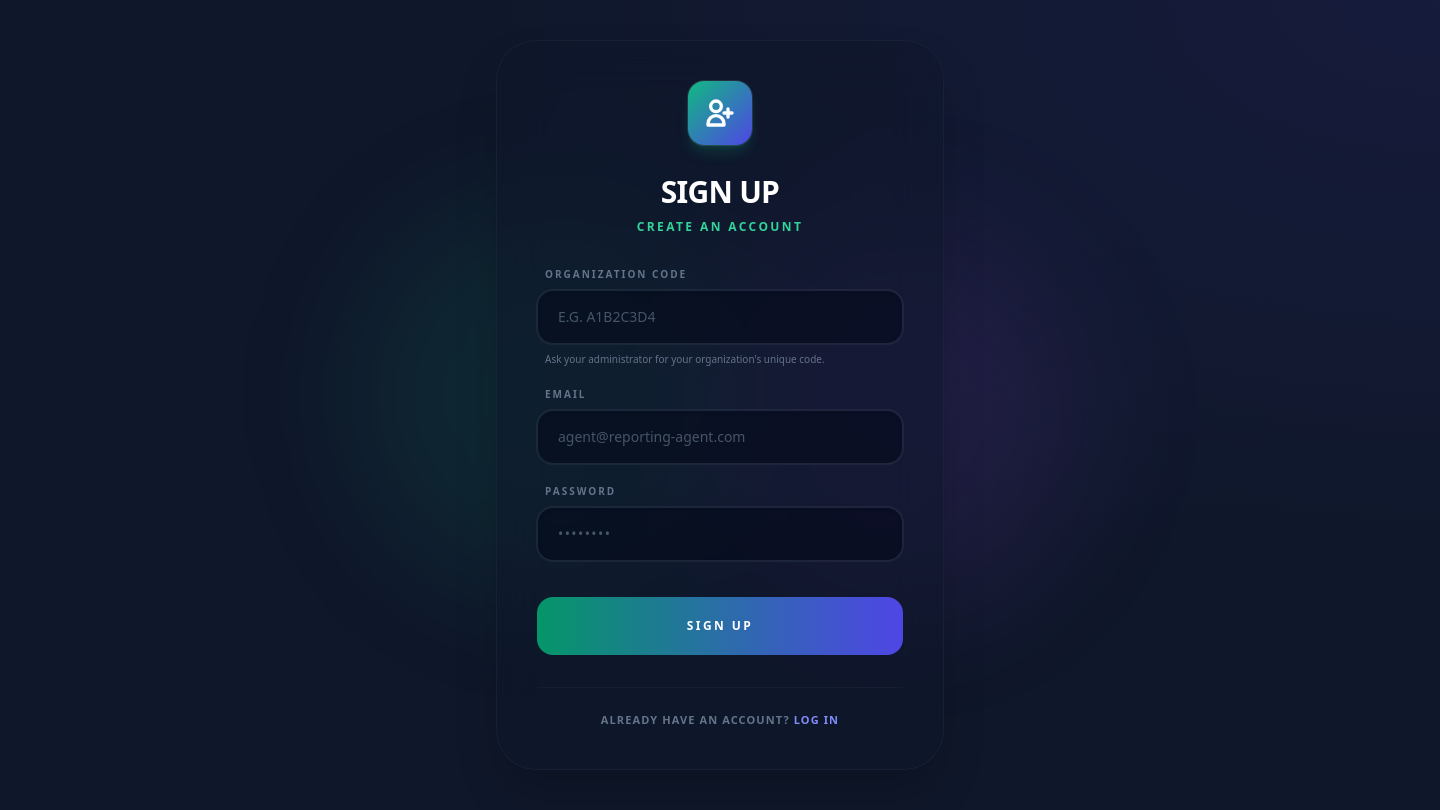
Auth view unit tests › submits signup and renders success for valid org code
In the field with placeholder "e.g. A1B2C3D4": (720, 317) [537, 290, 903, 344], type "ABC12345"
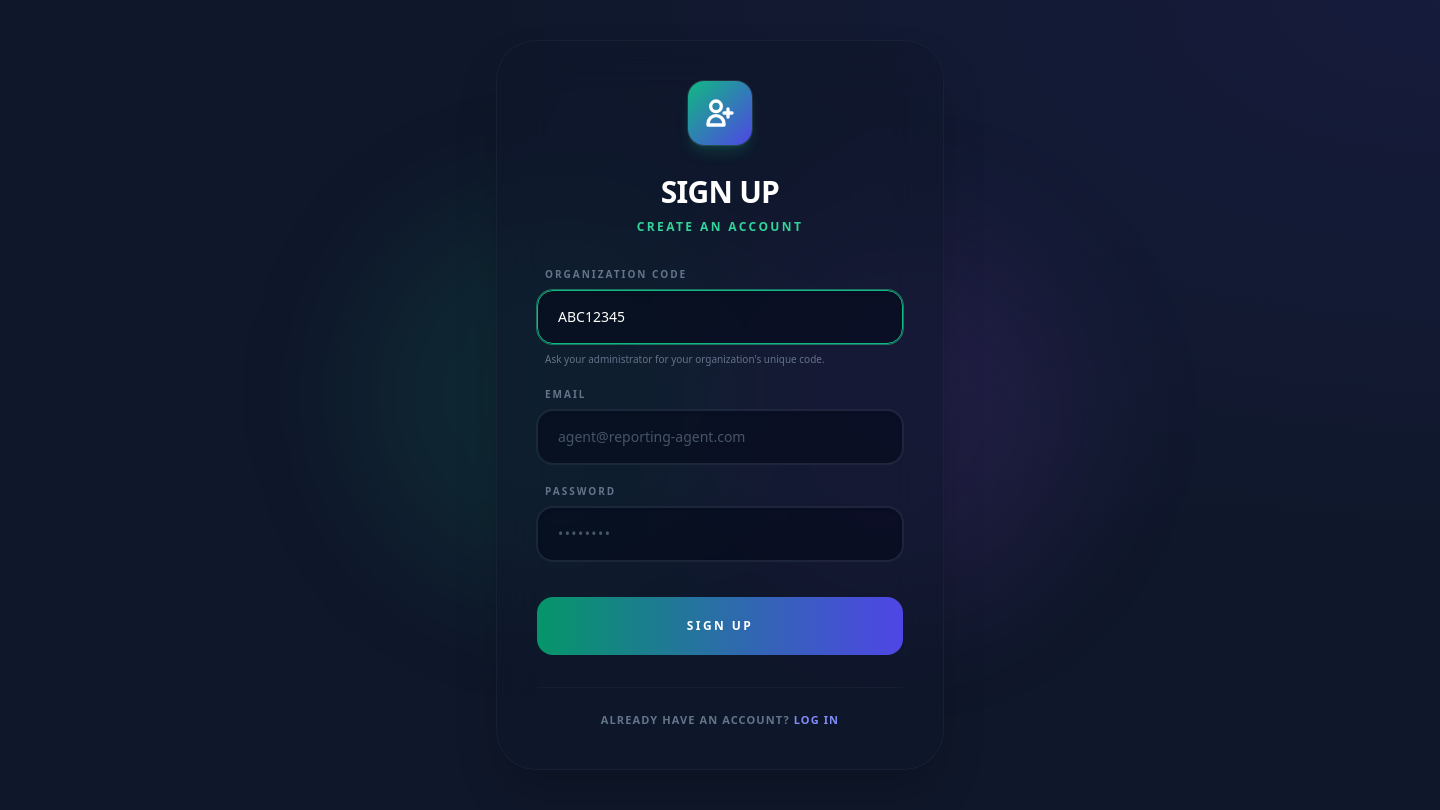
In the field with placeholder "agent@reporting-agent.com": (720, 437) [537, 410, 903, 464], type "member@test.com"
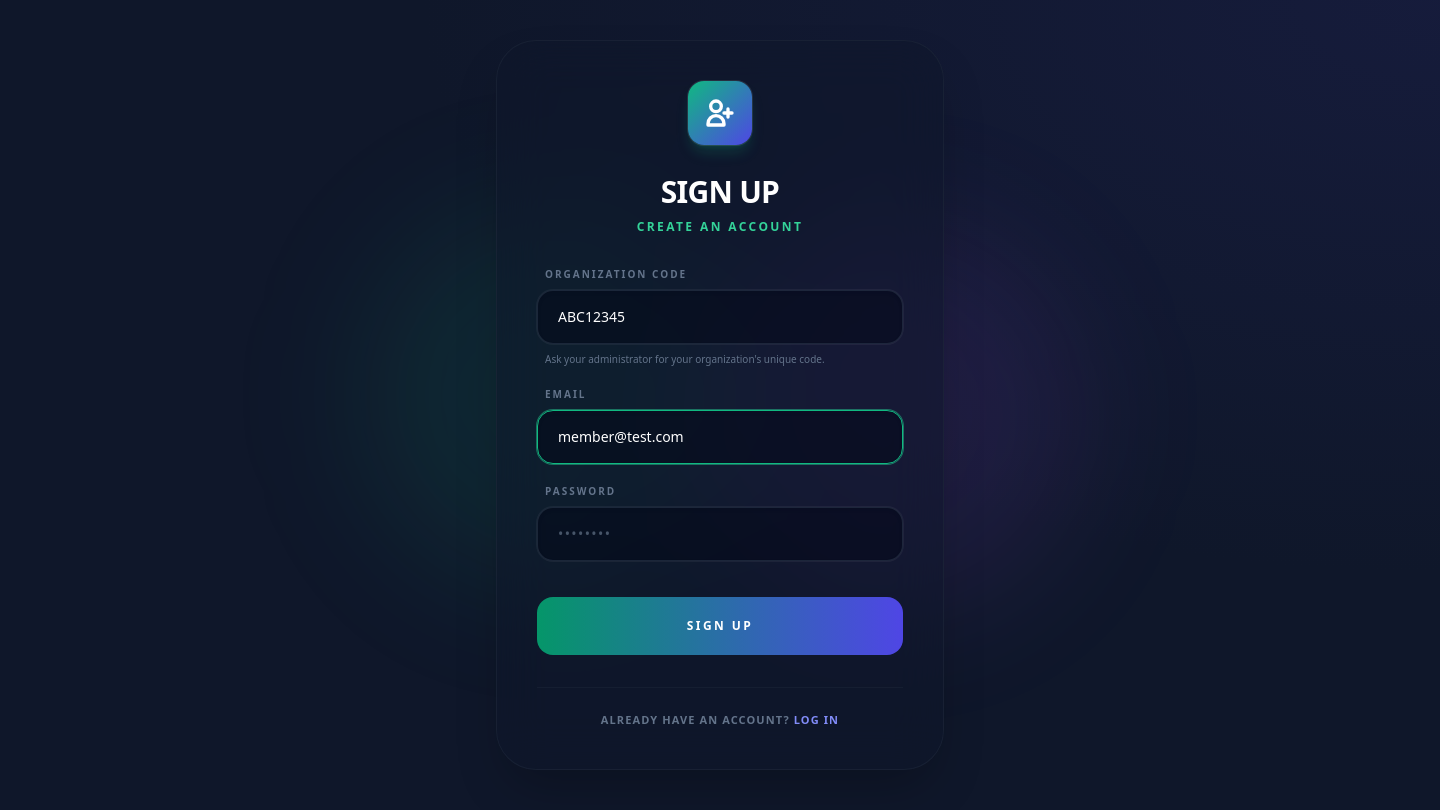
In the password field with placeholder "••••••••": (720, 534) [537, 507, 903, 561], type "password123"
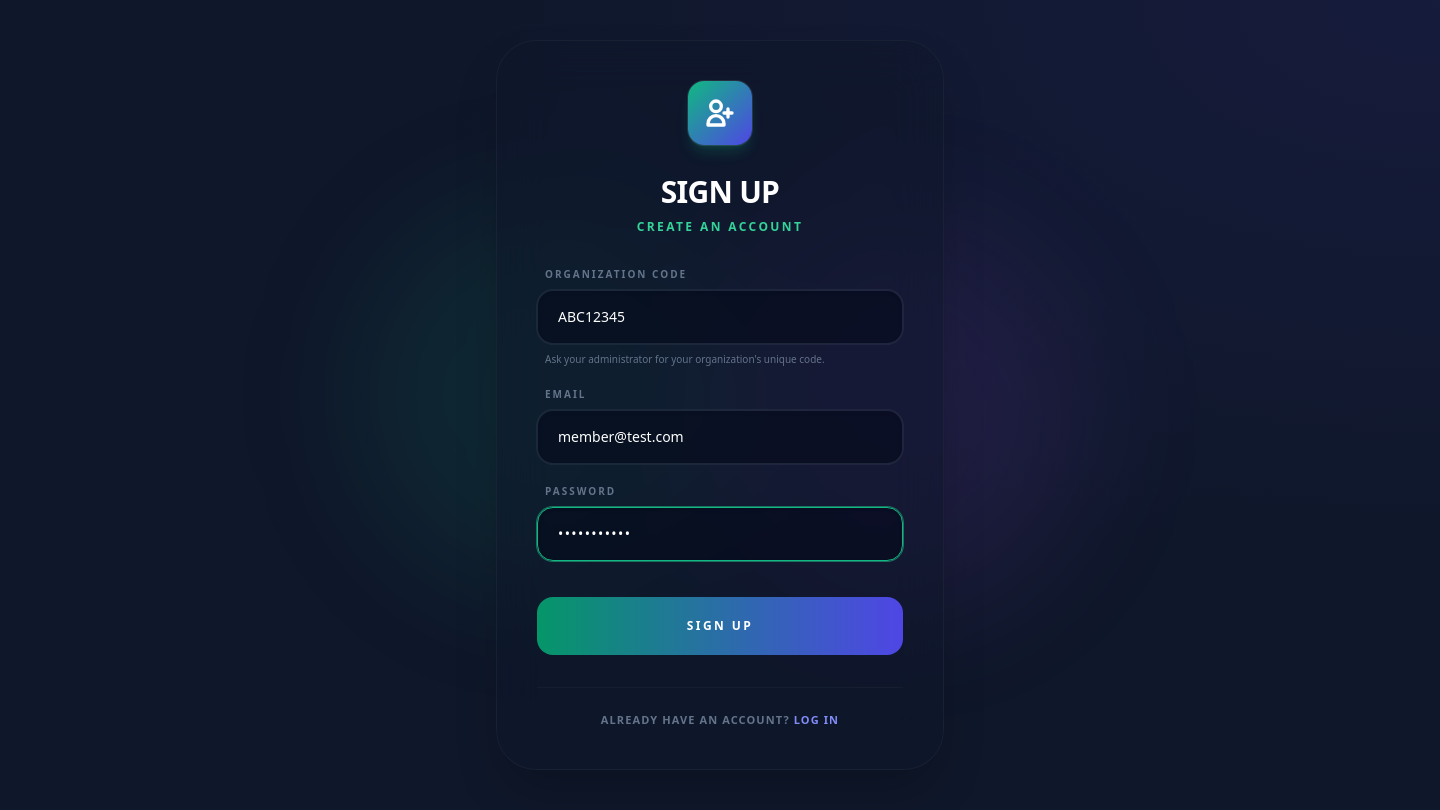
Click the button "Sign Up": (720, 626) [537, 597, 903, 655]
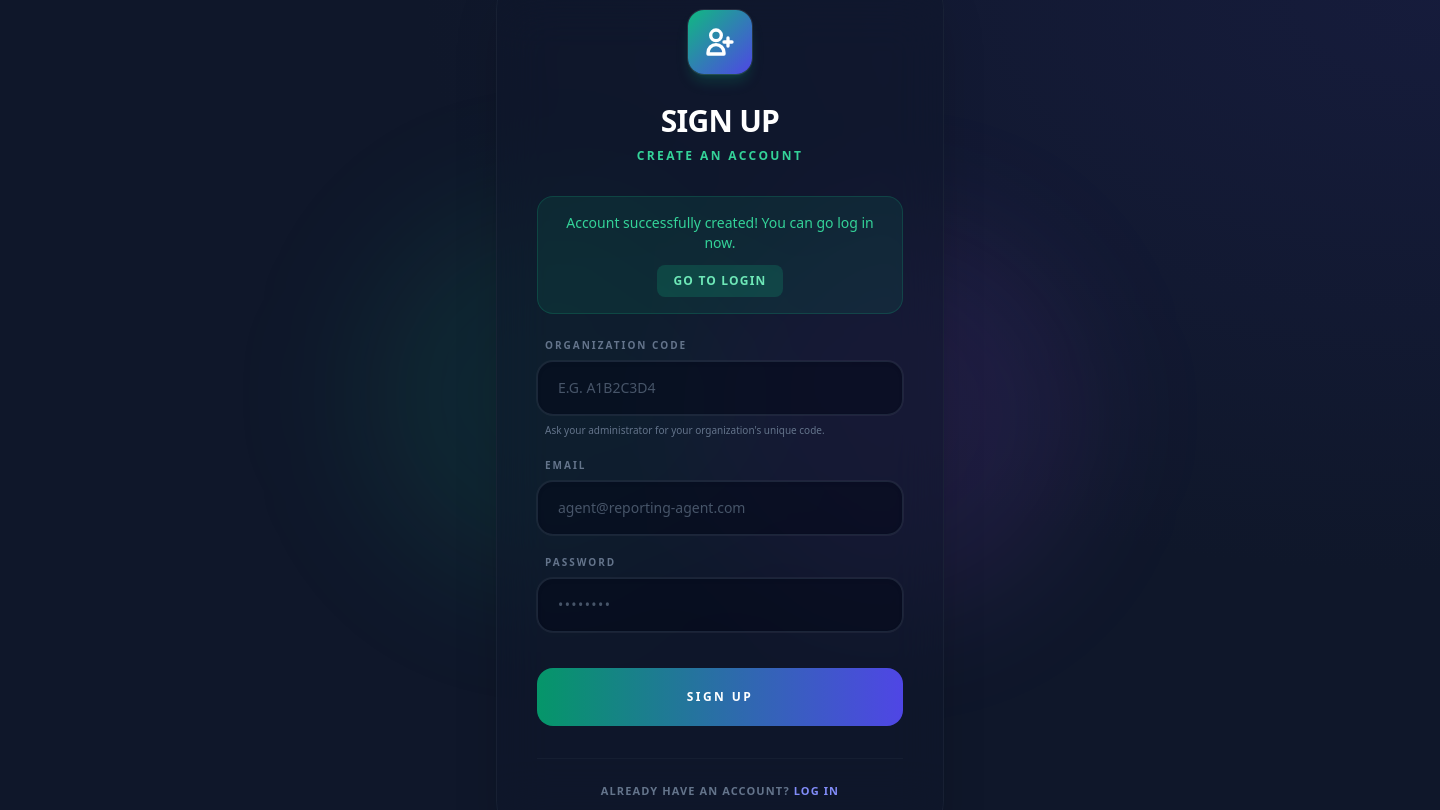
Expected: the text "Account successfully created! You can go log in now." is shown, [554, 213, 886, 253]
